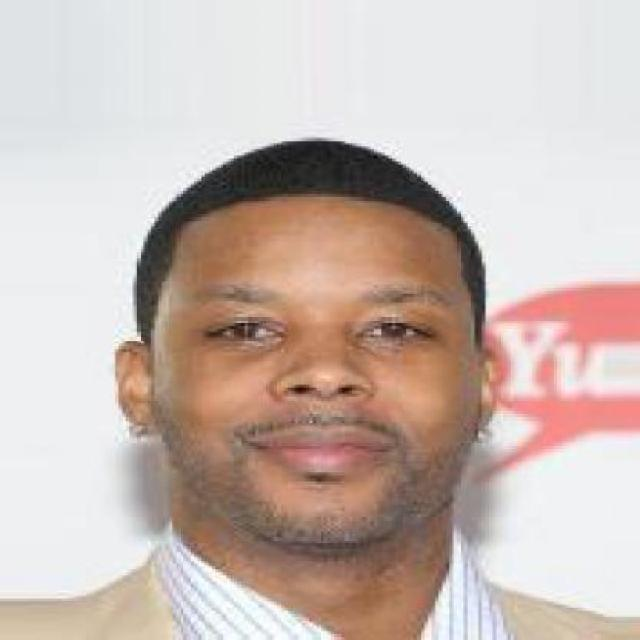closed-mouth: (245, 426, 393, 477)
